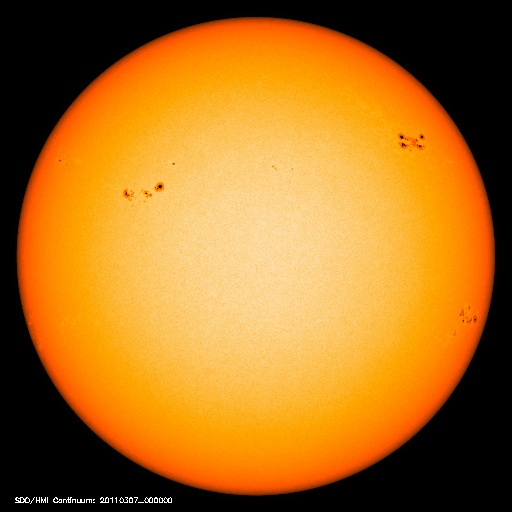sunspot: (117, 156, 183, 209), (446, 296, 488, 340), (390, 123, 433, 158), (265, 157, 300, 175)
